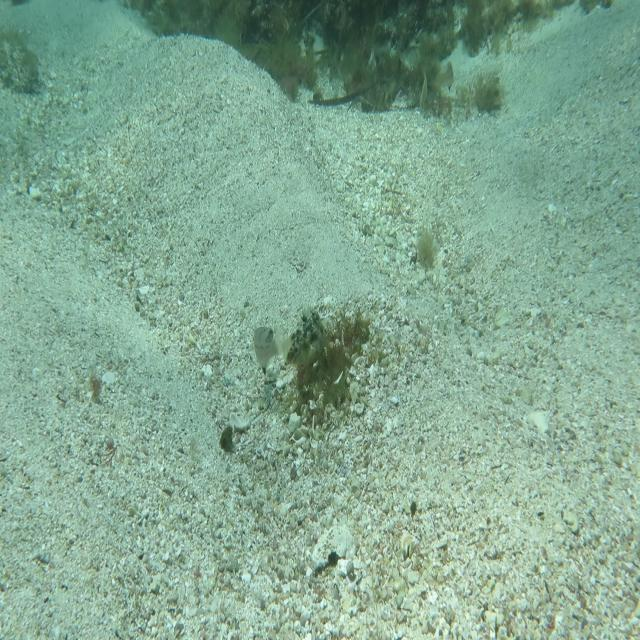DAN_CIRC: (284, 298, 329, 370)
female: (251, 322, 287, 377)
nest: (283, 302, 375, 420)
vegetation: (121, 0, 542, 45), (245, 41, 453, 88), (411, 225, 436, 270), (216, 422, 237, 454)
